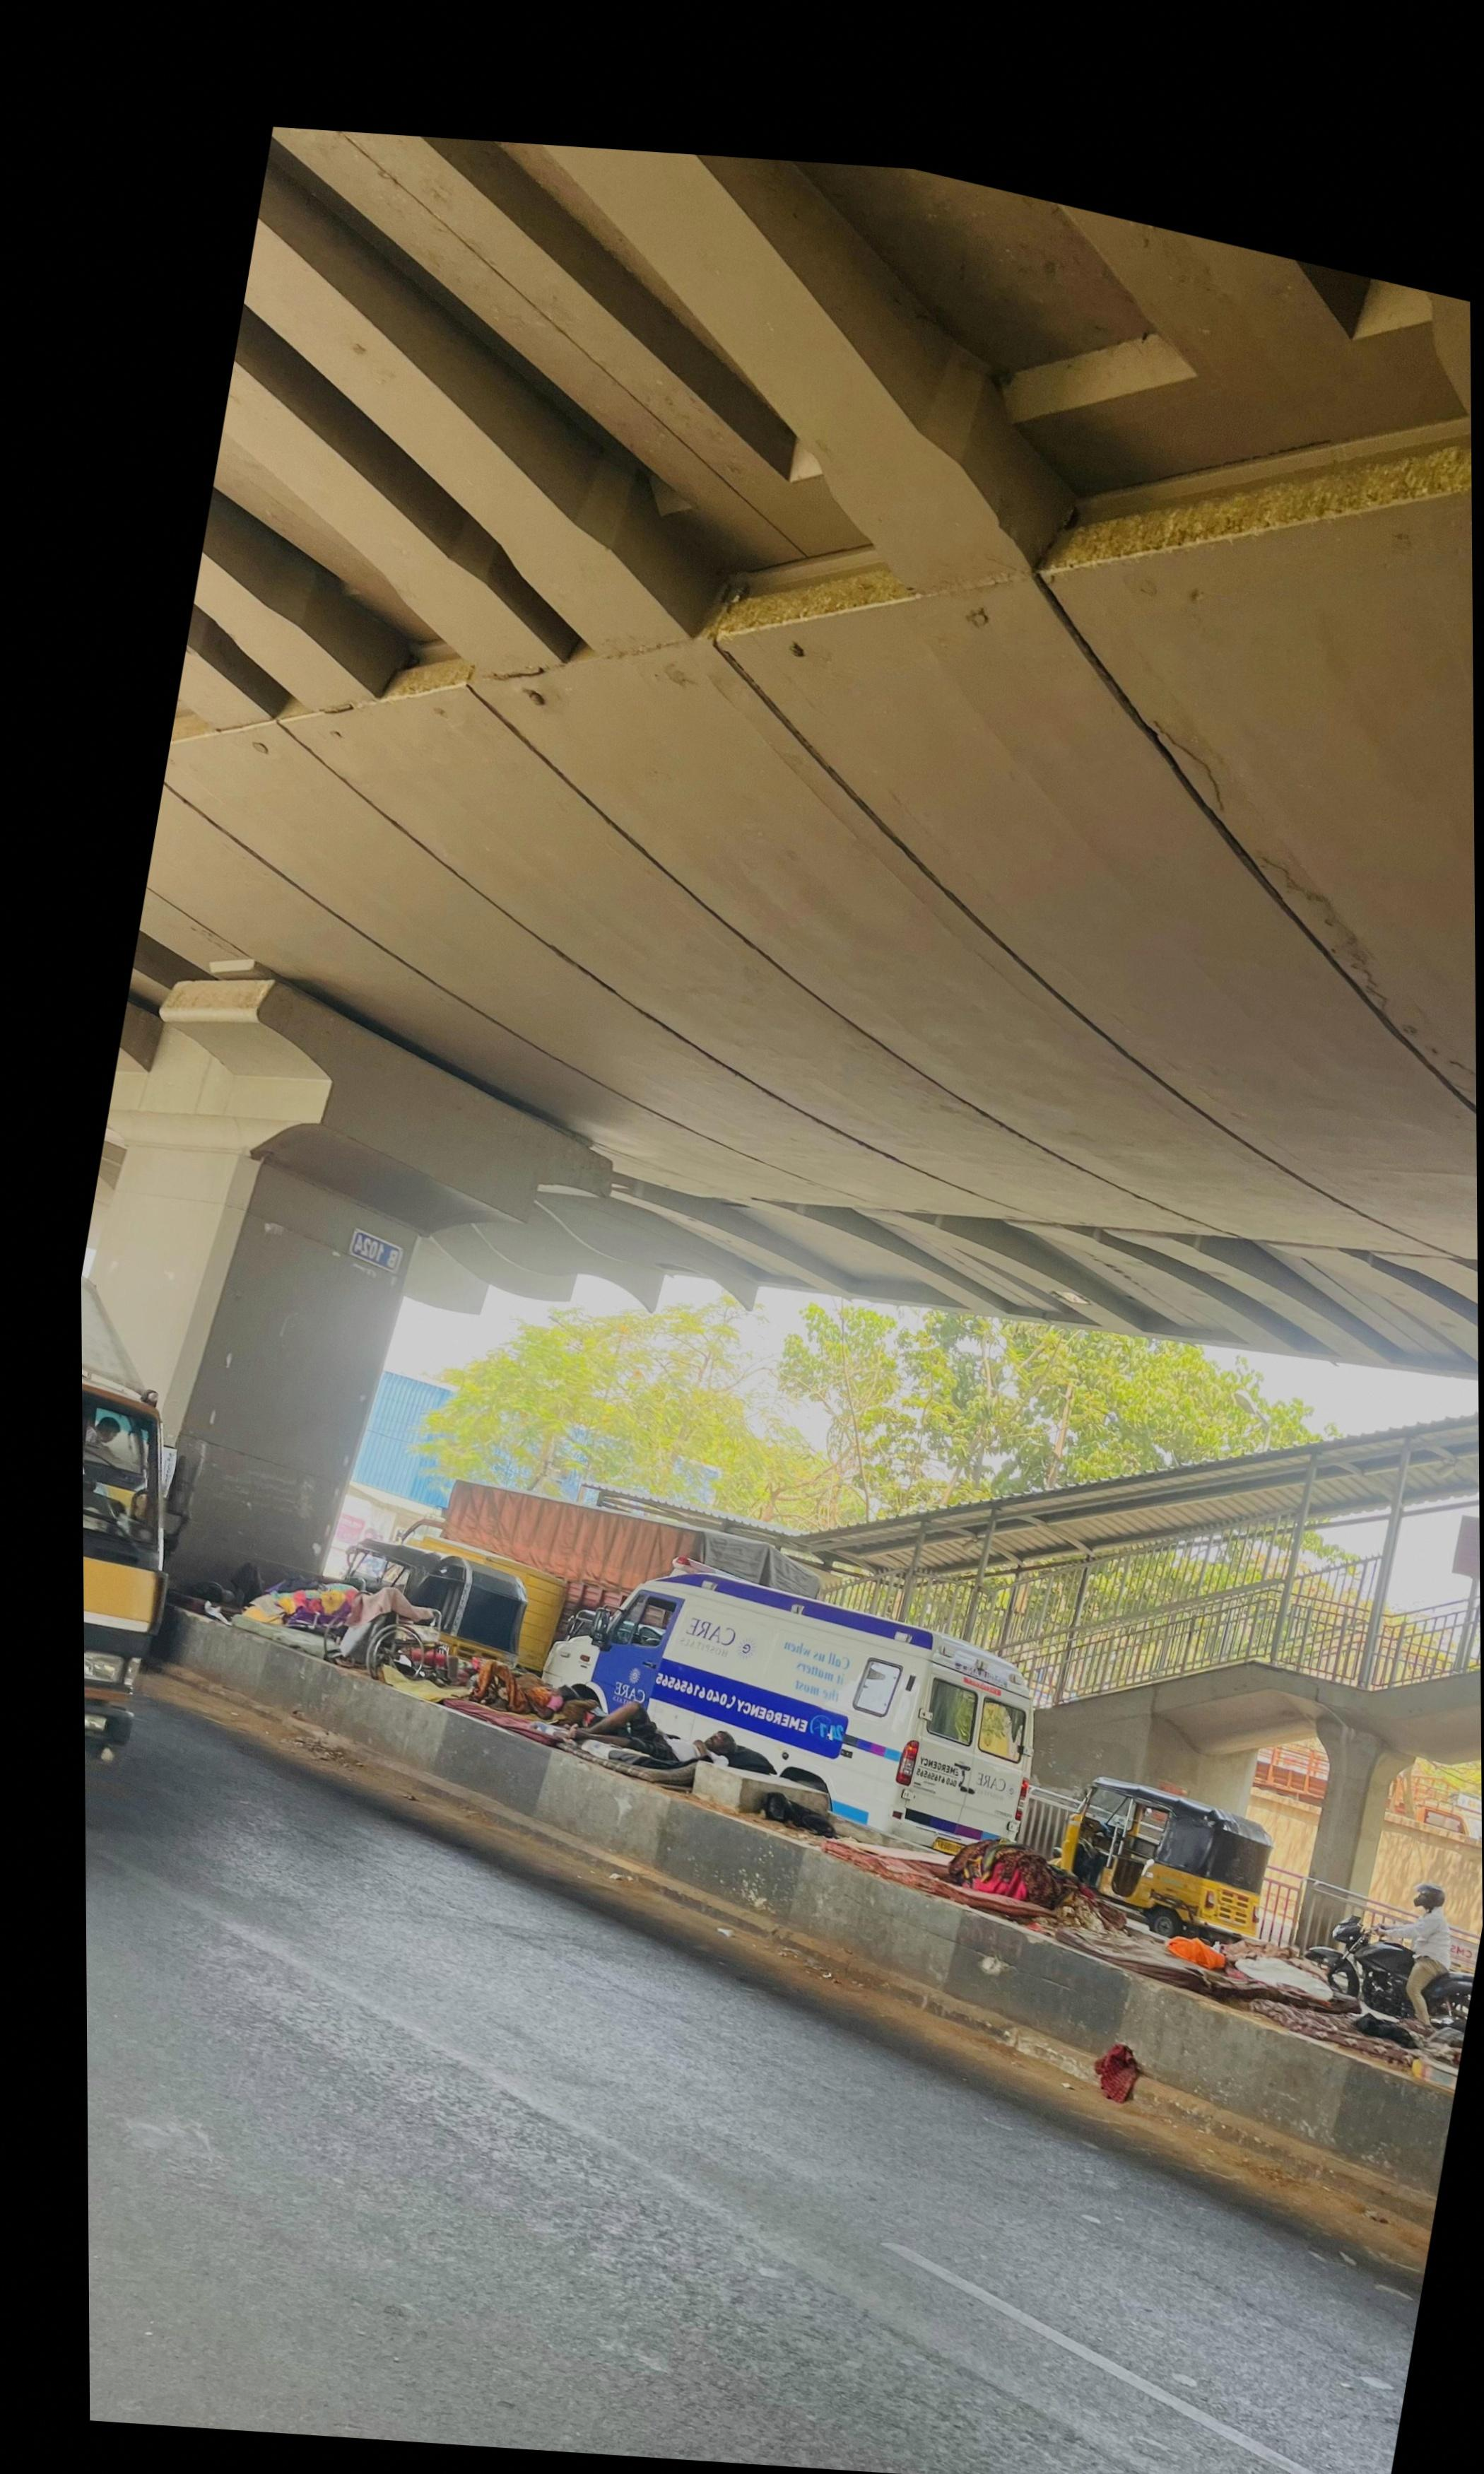ambulance: (541, 1562, 936, 1829)
